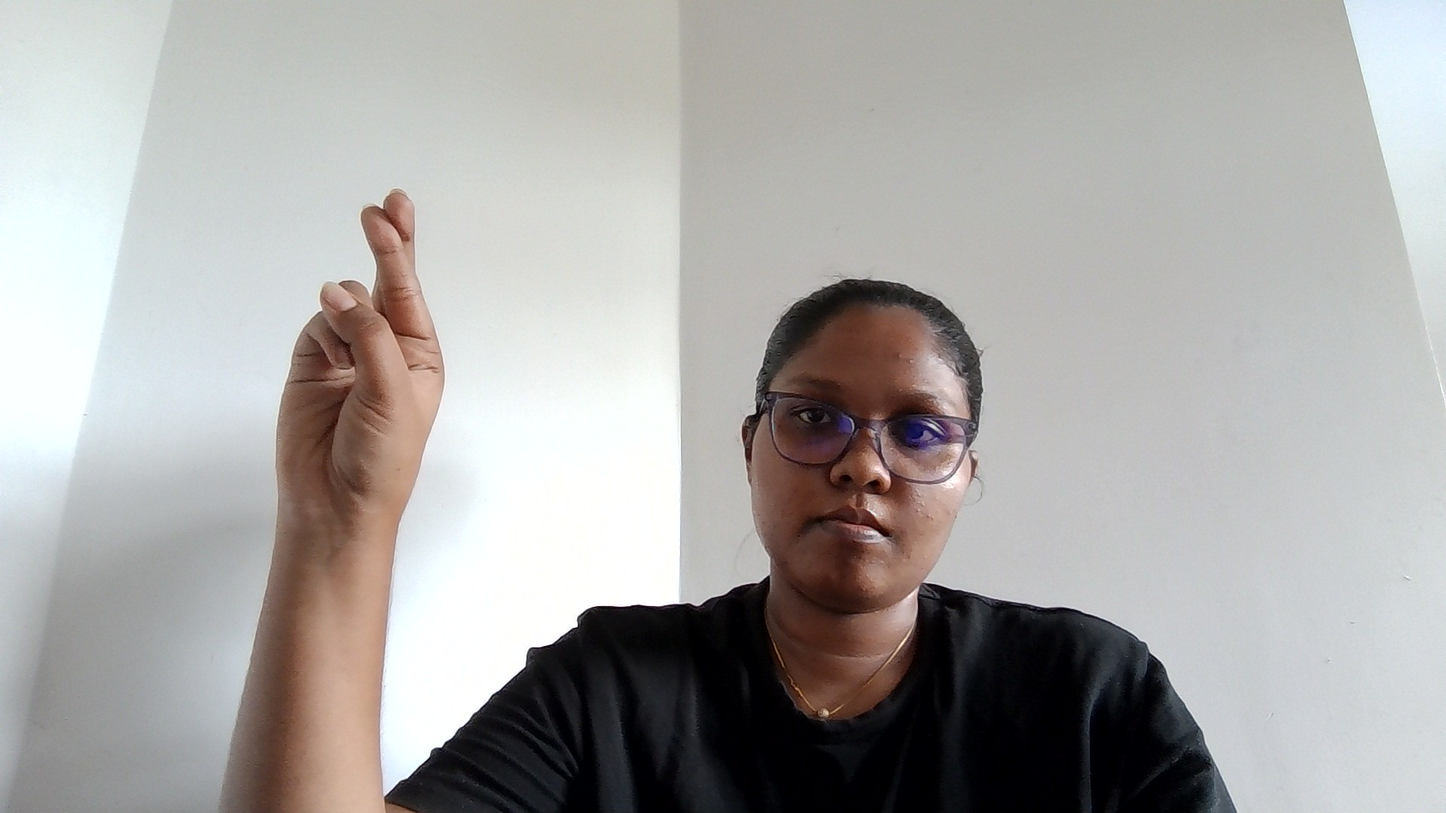Good_Luck: (228, 152, 537, 670)
